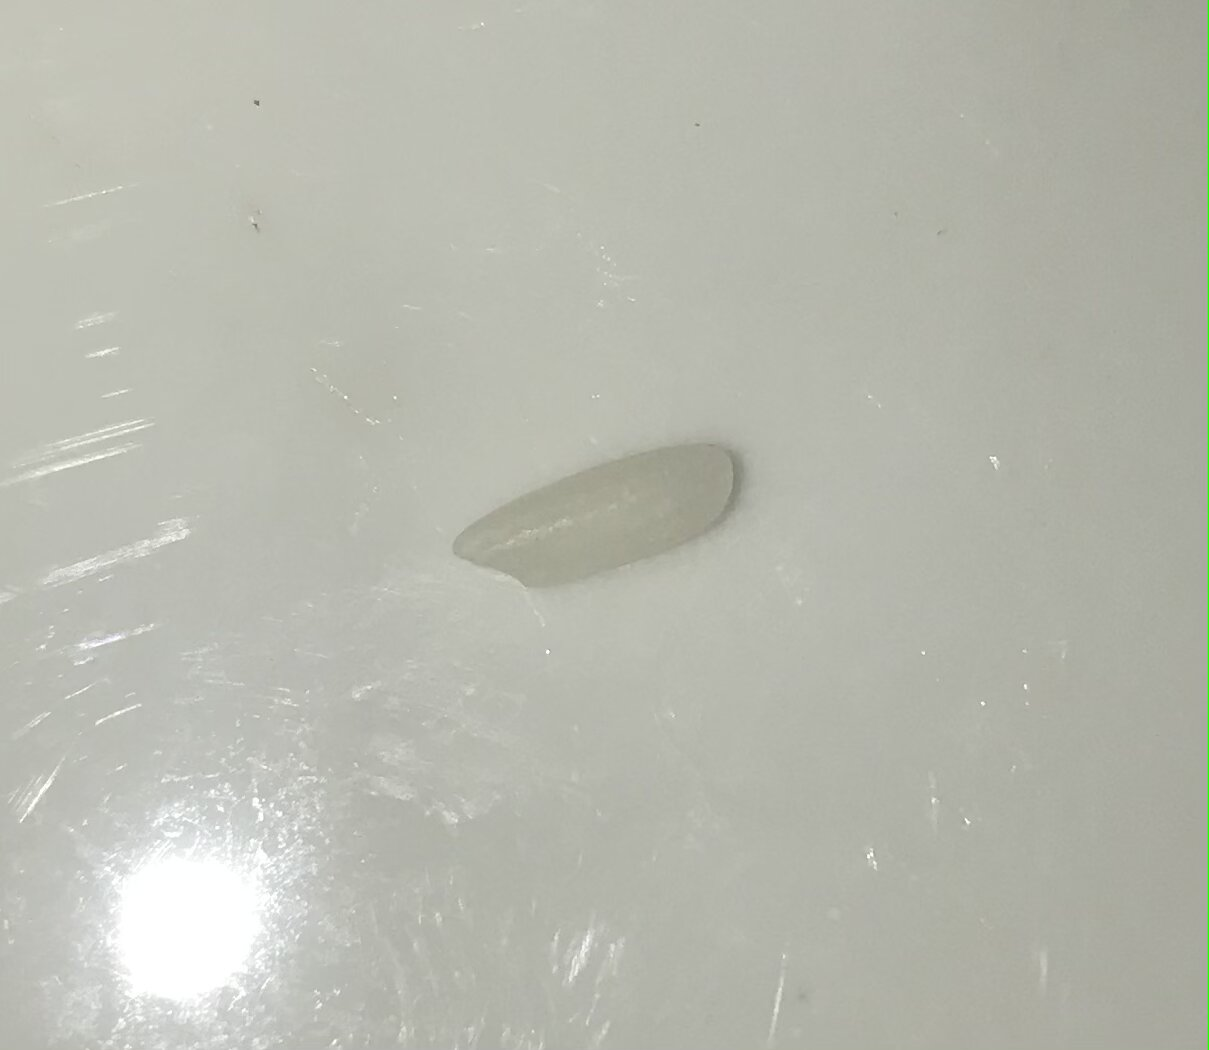Gao Lai Sua: (443, 432, 748, 609)
